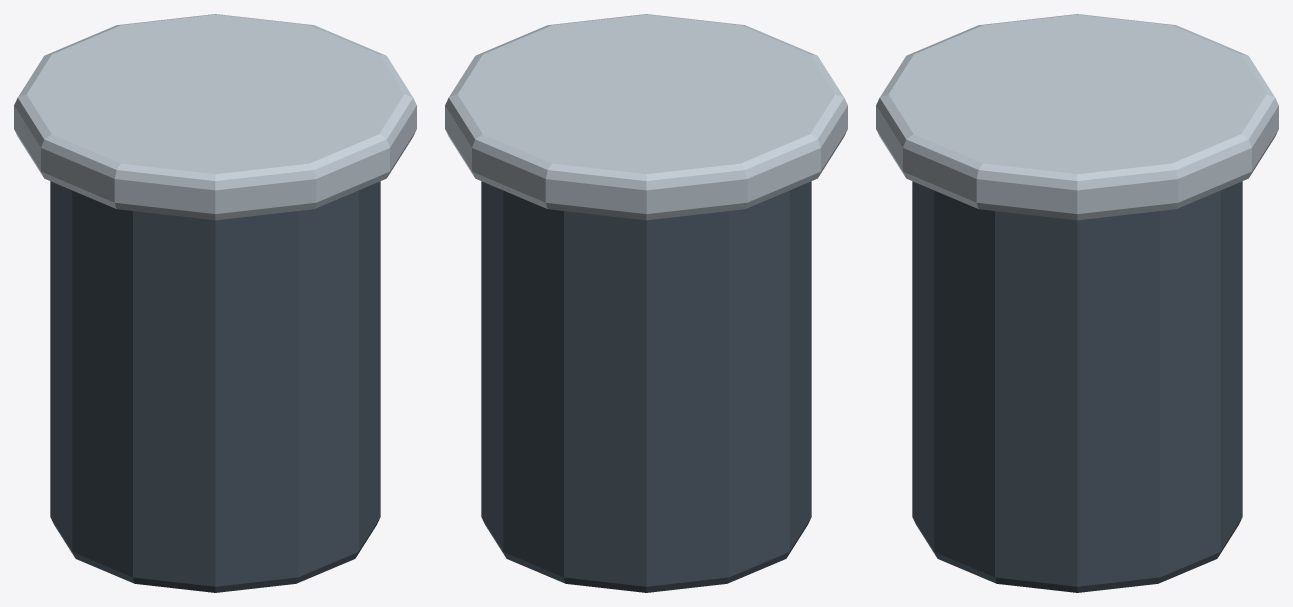
The model's file is Core-Generator.glb.
3 views of the same model, side by side, from view 1: azimuth 30°, elevation 25°; view 2: azimuth 150°, elevation 25°; view 3: azimuth 270°, elevation 25° (orthographic).
Visible parts, largest first — view 1: Energy_Generator.001, Generator_Top.001; view 2: Energy_Generator.001, Generator_Top.001; view 3: Energy_Generator.001, Generator_Top.001.
Part boxes in pixels (<box>): Energy_Generator.001: <box>50,181,380,592</box>; Generator_Top.001: <box>14,14,416,220</box>; Energy_Generator.001: <box>481,181,811,592</box>; Generator_Top.001: <box>445,14,847,220</box>; Energy_Generator.001: <box>912,181,1242,592</box>; Generator_Top.001: <box>876,14,1278,220</box>.
Bounding box in the file's own units: 2 × 2.38 × 2.
